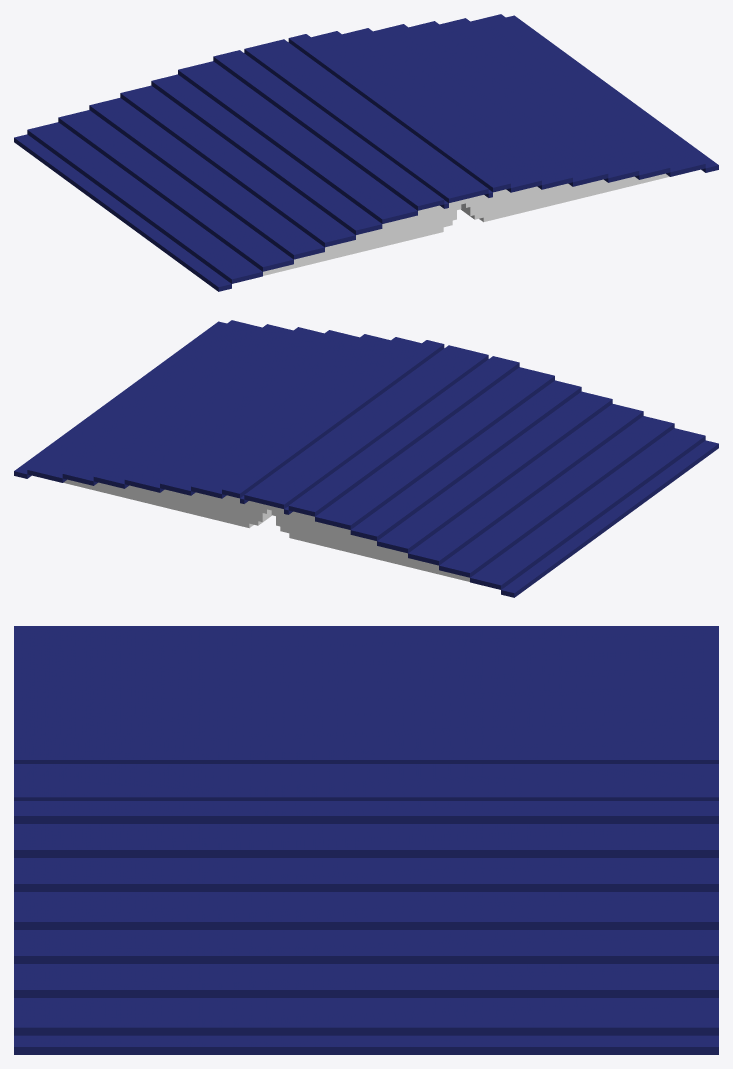
Rendered from Book2-2.fbx.
3 views of the same model, one above another, from view 1: azimuth 30°, elevation 25°; view 2: azimuth 150°, elevation 25°; view 3: azimuth 270°, elevation 25° (orthographic). The views are drawn at different scales.
Parts seen in each view (by area): view 1: Book2-2.001; view 2: Book2-2.001; view 3: Book2-2.001.
Part boxes in pixels (box(x1,y1,x2,y2)): Book2-2.001: box(14, 14, 718, 291); Book2-2.001: box(14, 320, 718, 597); Book2-2.001: box(14, 626, 718, 1054).
Bounding box in the file's own units: 11.3 × 0.8 × 8.
